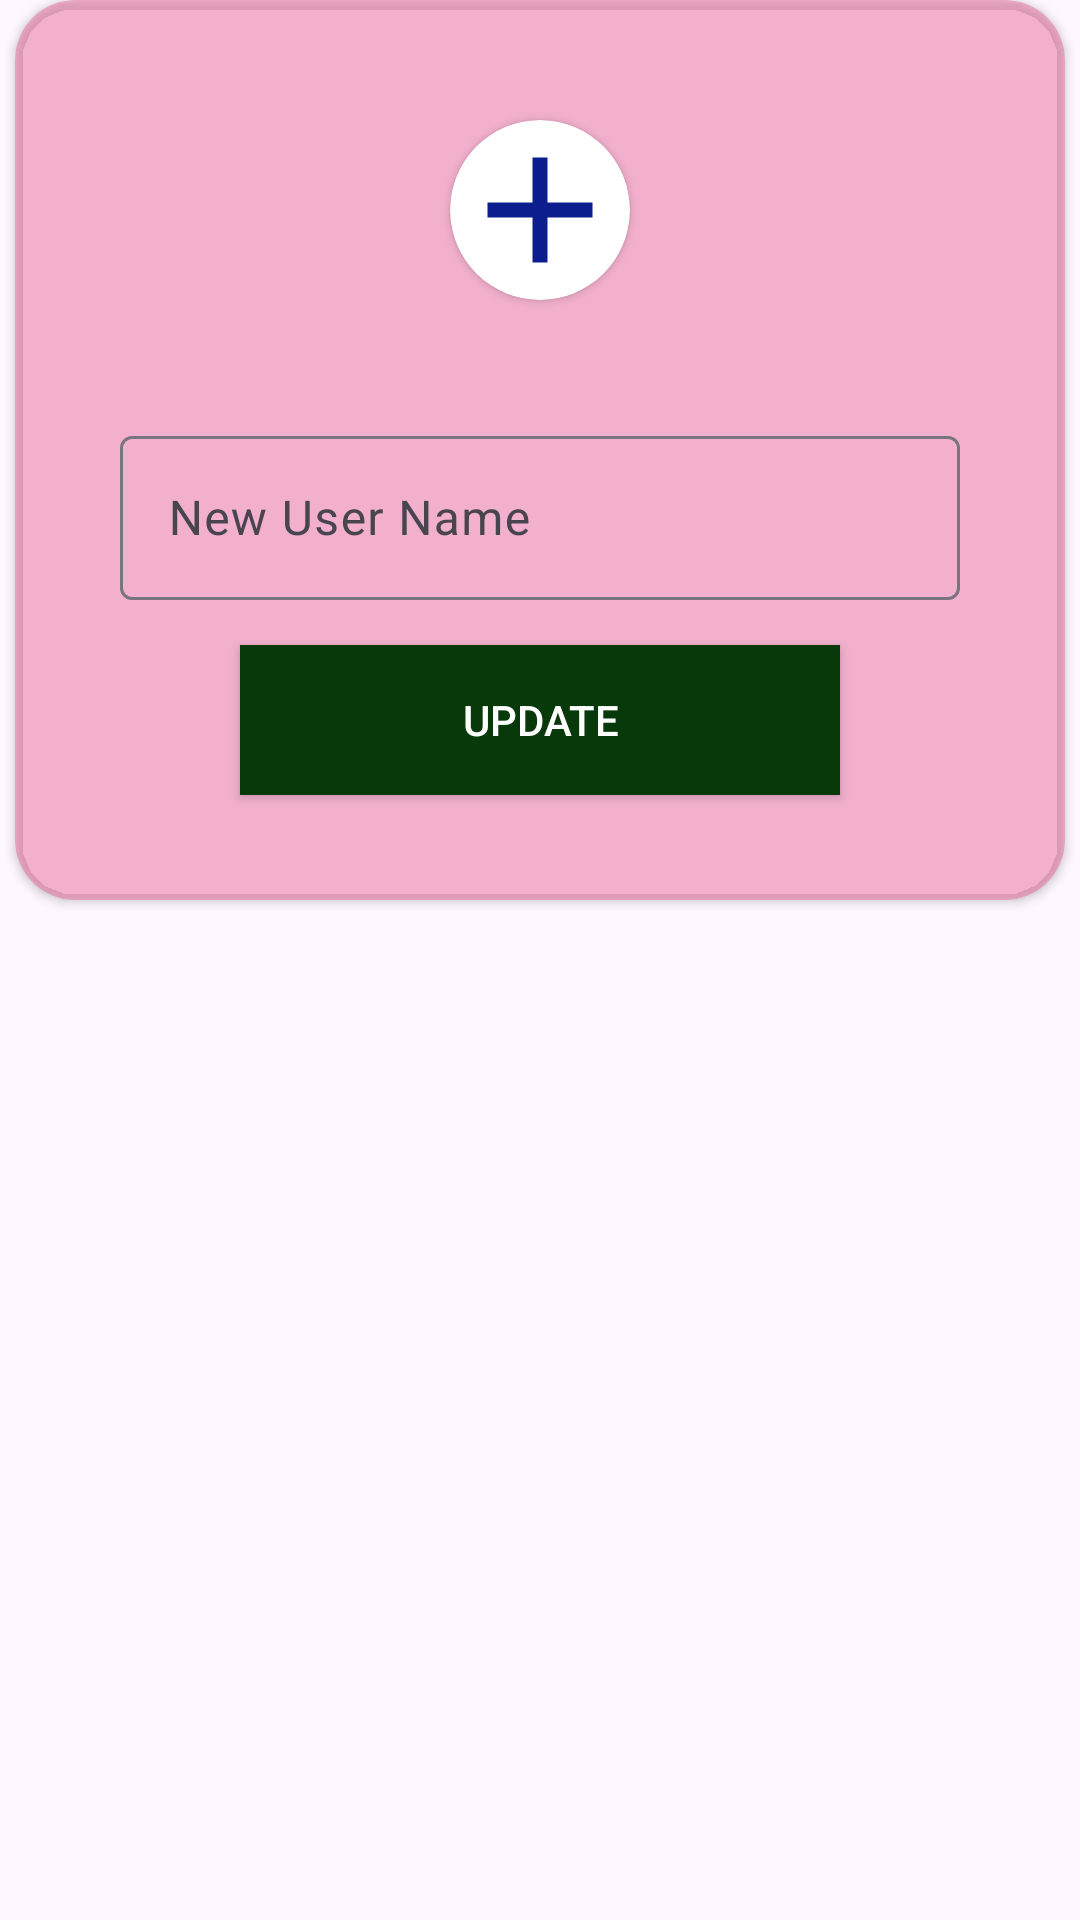

Icons on this 1080 x 1920 Android screen, each with its box as (x1, y1, x2, y2):
add: (450, 120, 630, 300)
